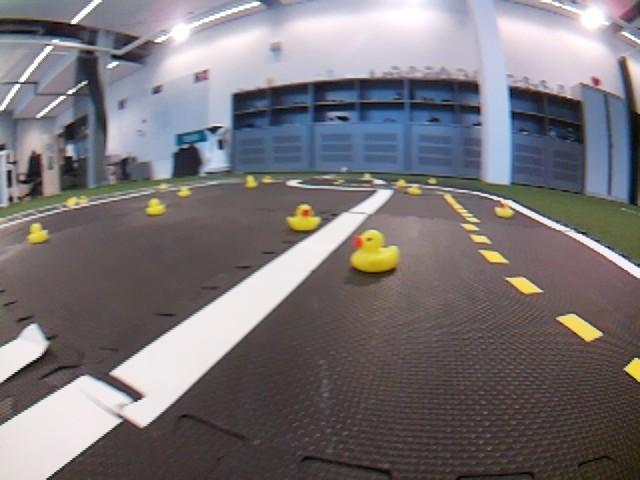Duckies: (351, 229, 399, 274), (285, 204, 322, 231), (26, 224, 49, 242), (494, 200, 514, 218), (146, 200, 167, 215), (406, 186, 422, 195), (178, 188, 193, 197), (245, 176, 257, 187), (67, 197, 78, 207), (262, 175, 273, 183), (396, 179, 407, 186), (80, 196, 89, 204), (158, 183, 168, 189), (428, 177, 436, 184), (363, 173, 371, 179)
